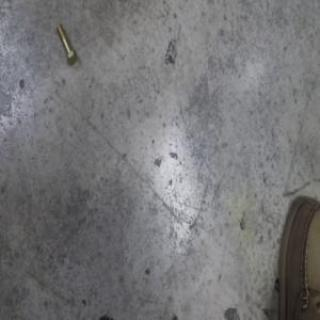Bolttrack_idkeyframe: (54, 22, 76, 66)
